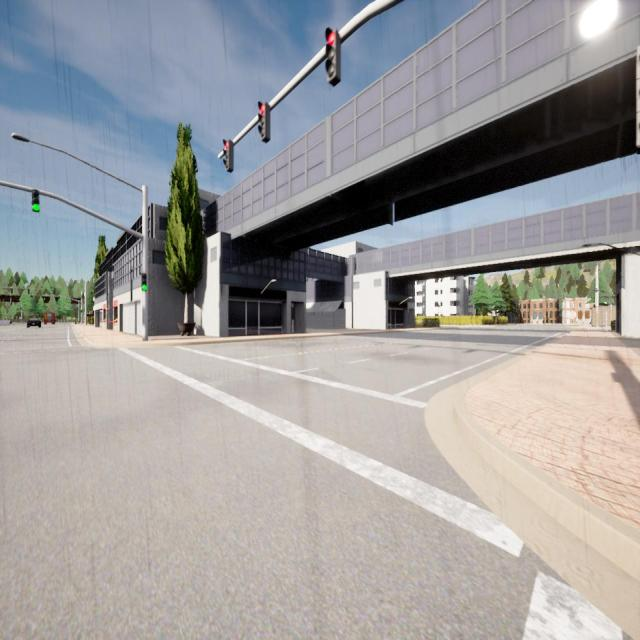Vehicle: (43, 310, 56, 325), (27, 317, 41, 328)
traffic_light: (325, 27, 341, 87), (258, 101, 270, 143), (222, 139, 234, 173), (32, 190, 40, 212), (141, 274, 147, 292), (11, 288, 13, 294), (58, 296, 60, 301), (80, 310, 82, 314), (31, 295, 33, 299), (28, 289, 29, 294), (83, 293, 84, 298), (82, 295, 83, 299), (44, 296, 45, 300)
